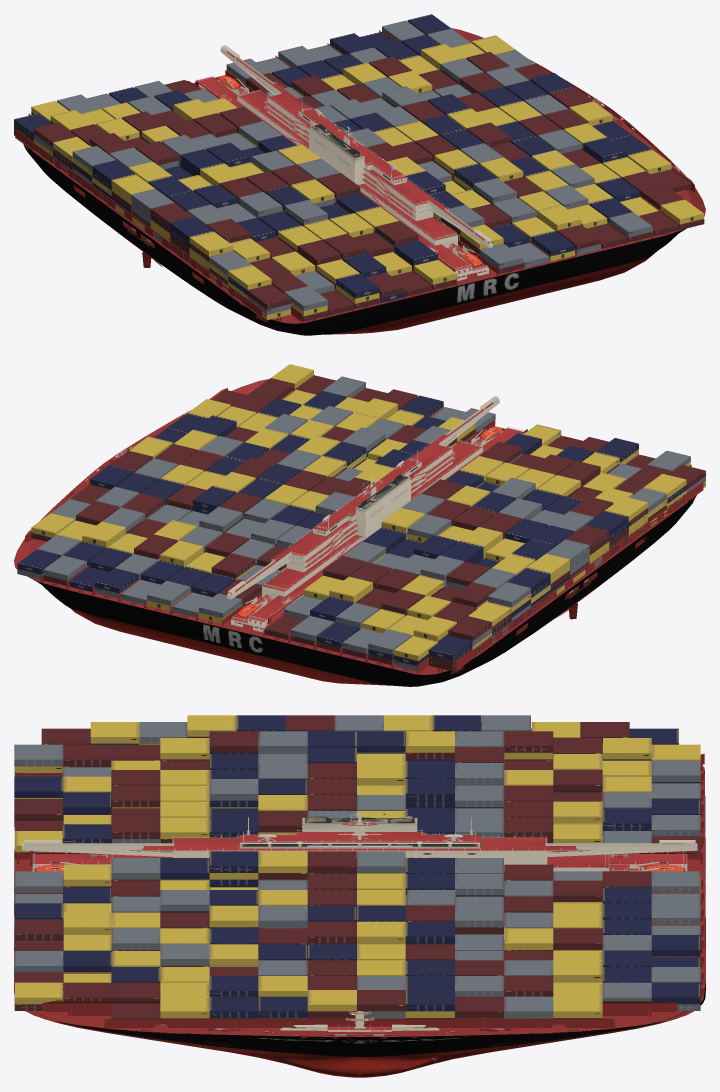
File: ship-container.glb
3 views of the same model, one above another, from view 1: azimuth 30°, elevation 25°; view 2: azimuth 150°, elevation 25°; view 3: azimuth 270°, elevation 25° (orthographic). The views are drawn at different scales.
Visible parts, largest first — view 1: Containers_Containers_0, Ship_Hull_0, Ship_Bridge_0; view 2: Containers_Containers_0, Ship_Hull_0, Ship_Bridge_0; view 3: Containers_Containers_0, Ship_Hull_0, Ship_Bridge_0.
Boxes of the visible parts, x1,y1,x2,y2 form: Containers_Containers_0: (14,14,704,321); Ship_Hull_0: (15,28,705,335); Ship_Bridge_0: (197,45,602,280); Containers_Containers_0: (17,364,705,671); Ship_Hull_0: (14,375,703,686); Ship_Bridge_0: (117,396,524,632); Containers_Containers_0: (14,715,700,1024); Ship_Hull_0: (14,753,705,1077); Ship_Bridge_0: (22,811,697,1032).
Bounding box in the file's own units: 1 × 0.1852 × 1.
Materials: 3 (3 with a texture image).
